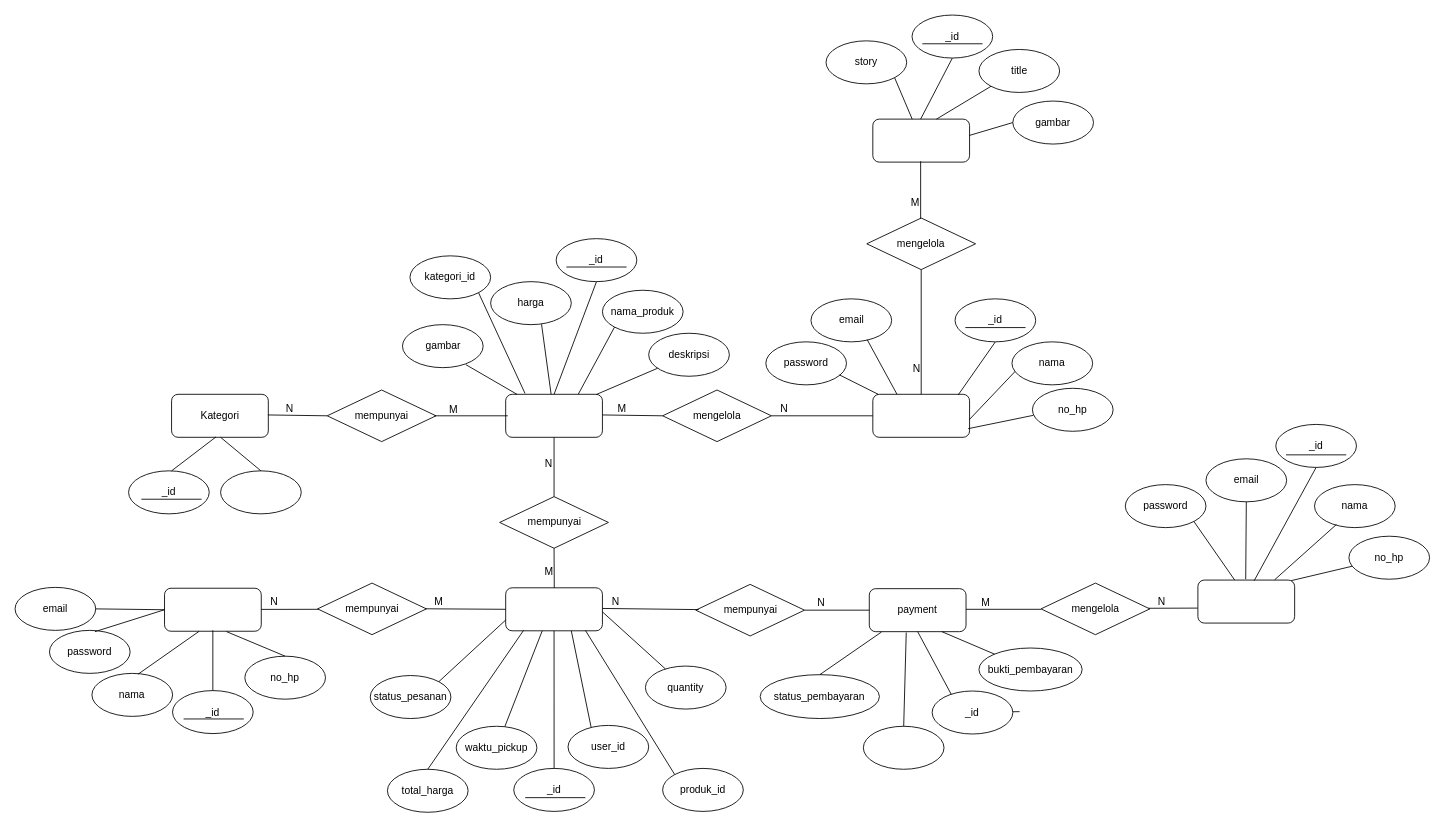
Some shapes in this 1445 by 827 pixel diagram are drawn without their labels. The shapes that lost their labels are listed below. From the top down, each one's centre as x and y in pixels, then its label:
[921,140]: About Us
[553,415]: Produk
[921,415]: Admin
[260,492]: nama_kategori
[212,609]: User
[553,609]: Pesanan
[1246,601]: Kasir
[903,747]: pesanan_id
